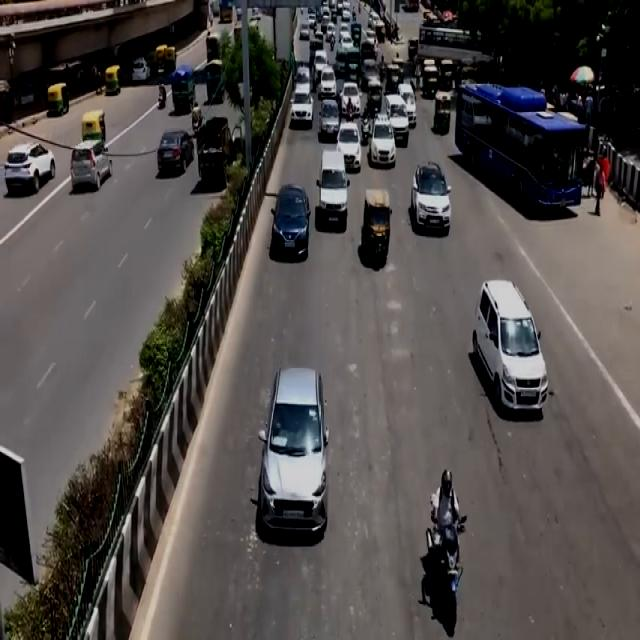BUS: (456, 74, 583, 225)
MOTORCYCLE: (432, 518, 464, 639)
